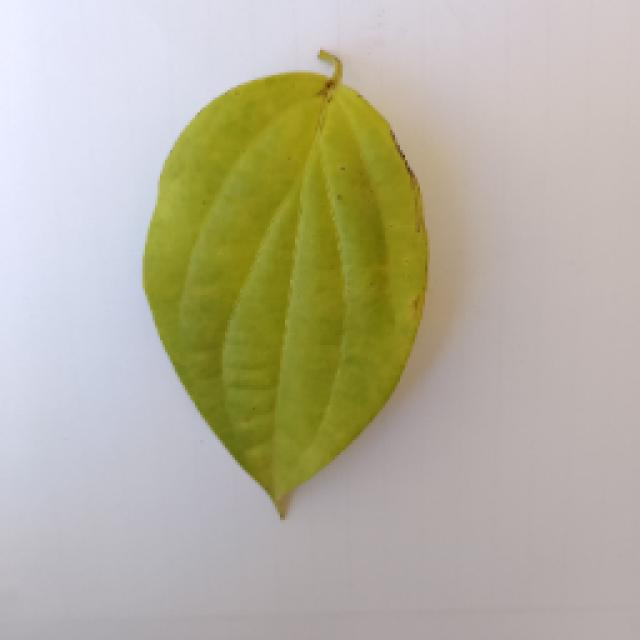slow-decline: (130, 42, 435, 510)
